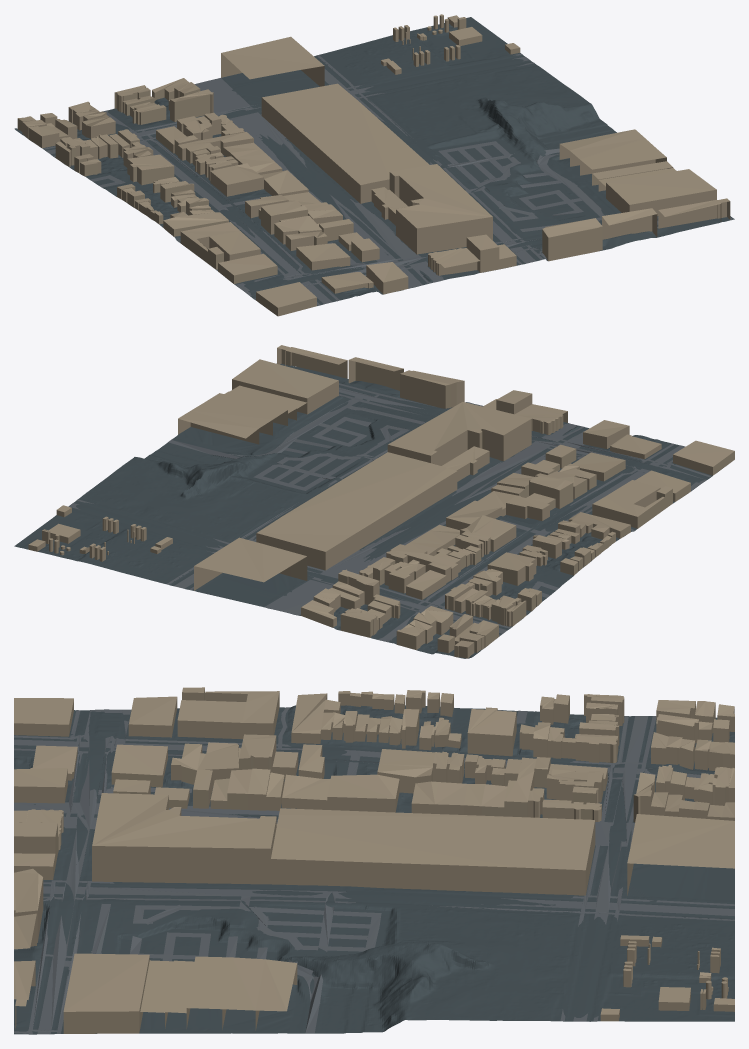
Rendered from epsg26910-1442-10883.lod0.glb.
3 renders of one model, top to bottom at view 1: azimuth 30°, elevation 25°; view 2: azimuth 150°, elevation 25°; view 3: azimuth 270°, elevation 25°, orthographic. The views are drawn at different scales.
Visible parts, largest first — view 1: epsg26910-1442-10883-lod0; view 2: epsg26910-1442-10883-lod0; view 3: epsg26910-1442-10883-lod0.
Boxes of the visible parts, x1,y1,x2,y2 form: epsg26910-1442-10883-lod0: [14, 14, 734, 316]; epsg26910-1442-10883-lod0: [14, 345, 734, 658]; epsg26910-1442-10883-lod0: [14, 687, 734, 1034].
Bounding box in the file's own units: 384 × 30.66 × 384.
